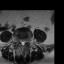CCS_stenosis: (22, 39, 24, 46)
LFS_severe_stenosis: (25, 39, 27, 44)
LLS_normal: (23, 39, 25, 45)
RFS_severe_stenosis: (18, 39, 20, 43)
RLS_stenosis: (20, 39, 22, 45)
